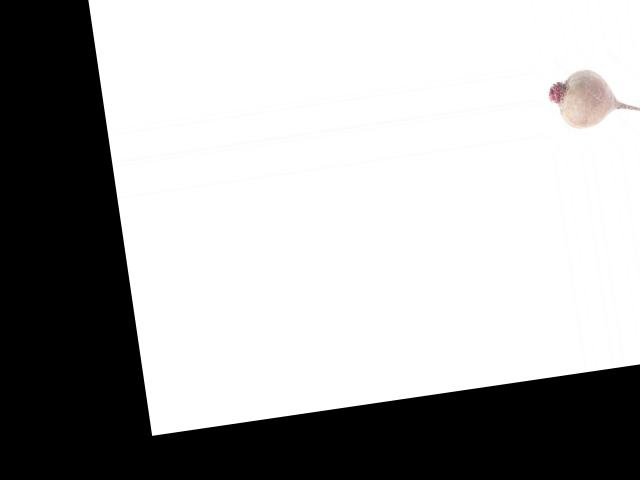beet: (545, 58, 640, 132)
